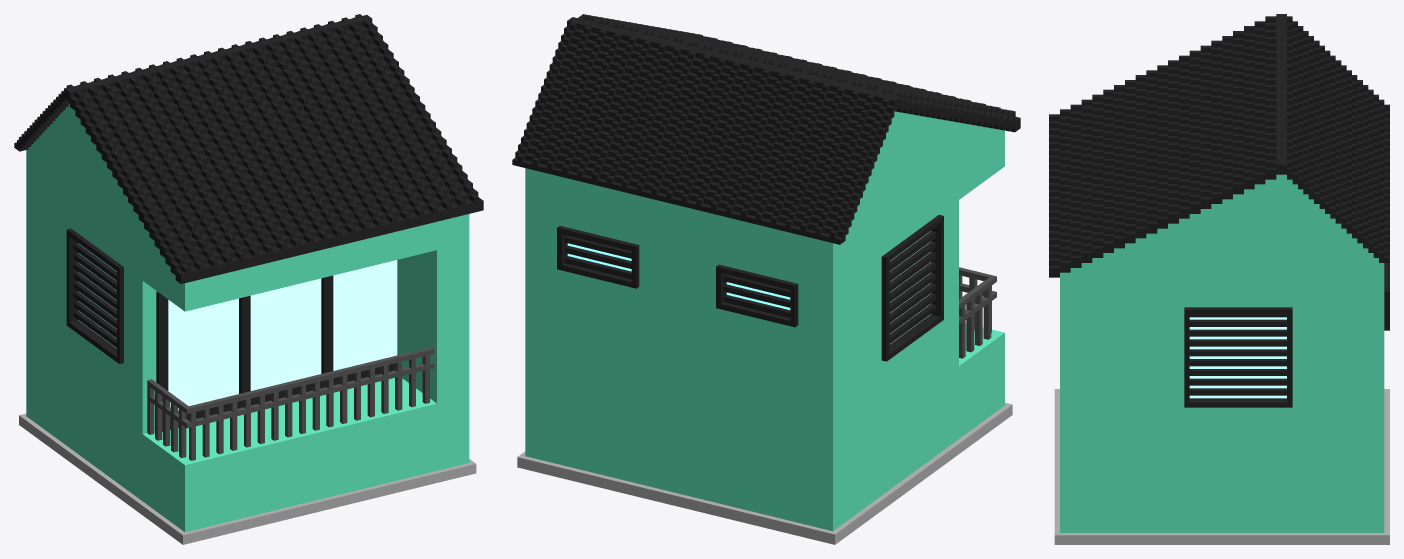
Rendered from typeFive.glb.
3 renders of one model, left to right at view 1: azimuth 30°, elevation 25°; view 2: azimuth 150°, elevation 25°; view 3: azimuth 270°, elevation 25°, orthographic. The views are drawn at different scales.
Parts seen in each view (by area): view 1: ObjObject; view 2: ObjObject; view 3: ObjObject.
Part boxes in pixels (x1,y1,x2,y2): ObjObject: (14, 14, 483, 544); ObjObject: (512, 14, 1020, 544); ObjObject: (1049, 14, 1389, 544).
Bounding box in the file's own units: 6.6 × 7.8 × 6.3.
3 materials, 1 textured.
